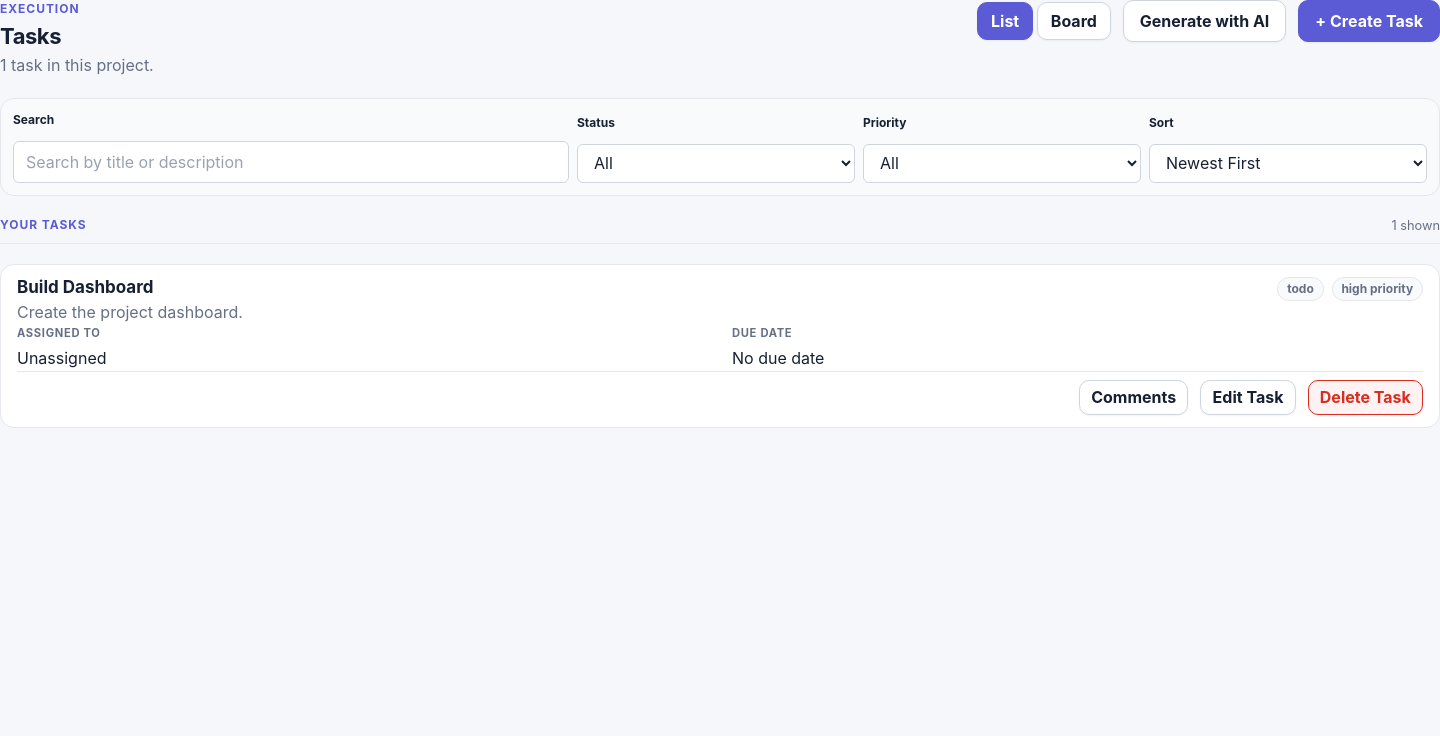
Test: task comments read and create UI › preserves typed content when comment creation fails
This screenshot has width=1440, height=736.
Click the button with aria-label "View comments for Build Dashboard".
click(1134, 397)  # box [1079,380,1188,414]
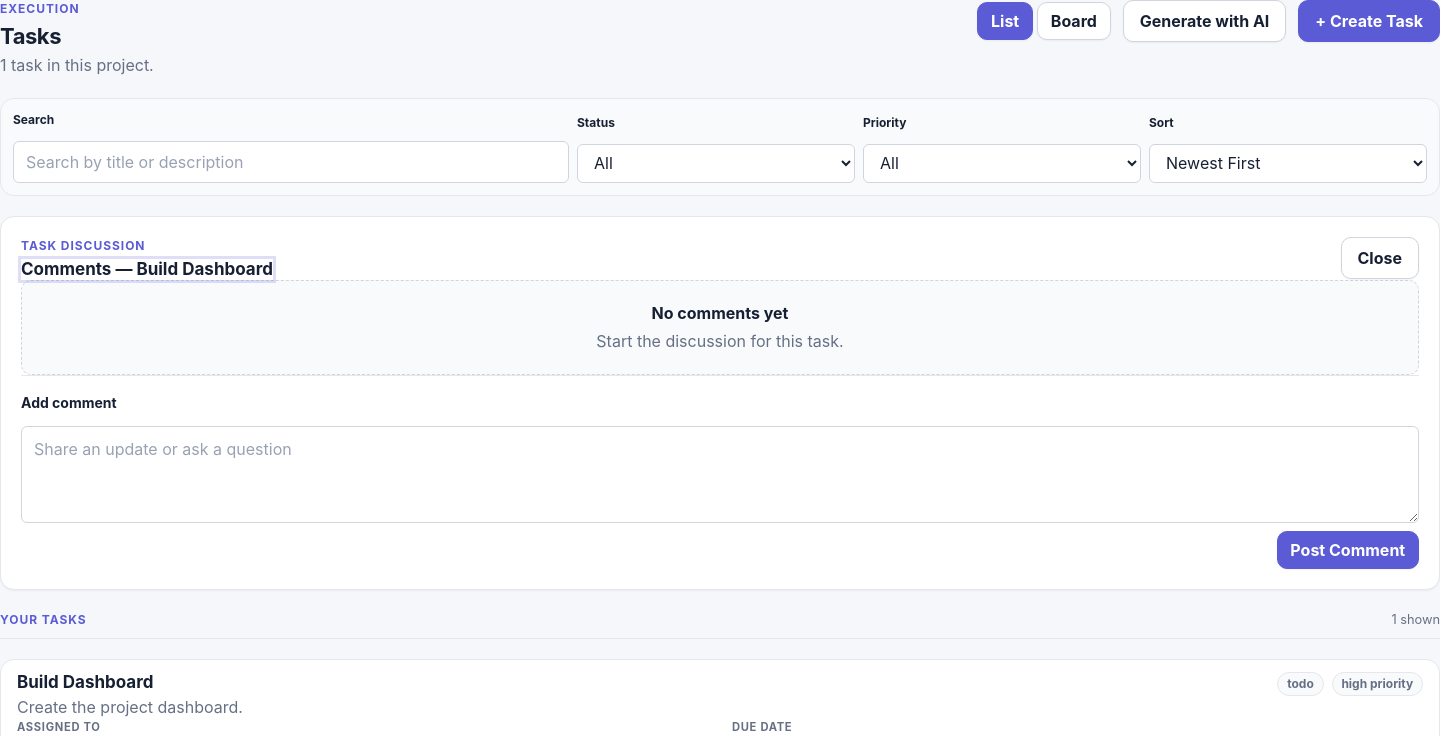
Now the text "No comments yet" is shown, box [652,302,788,322]
Type "Keep this draft" into the text box labelled "Add comment".
click(720, 474); type("Keep this draft")  # box [21,426,1419,523]
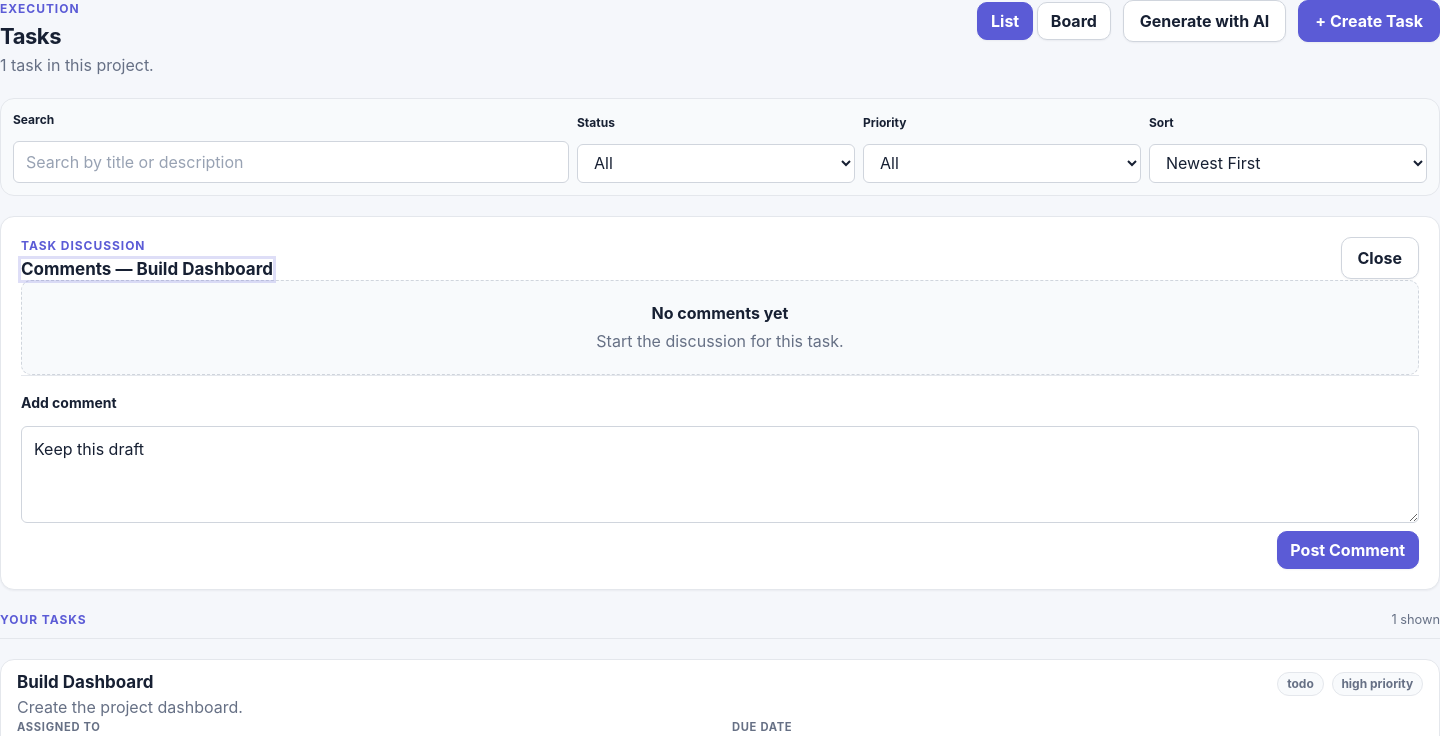
Click the button "Post Comment".
click(1348, 550)  # box [1276,531,1419,569]
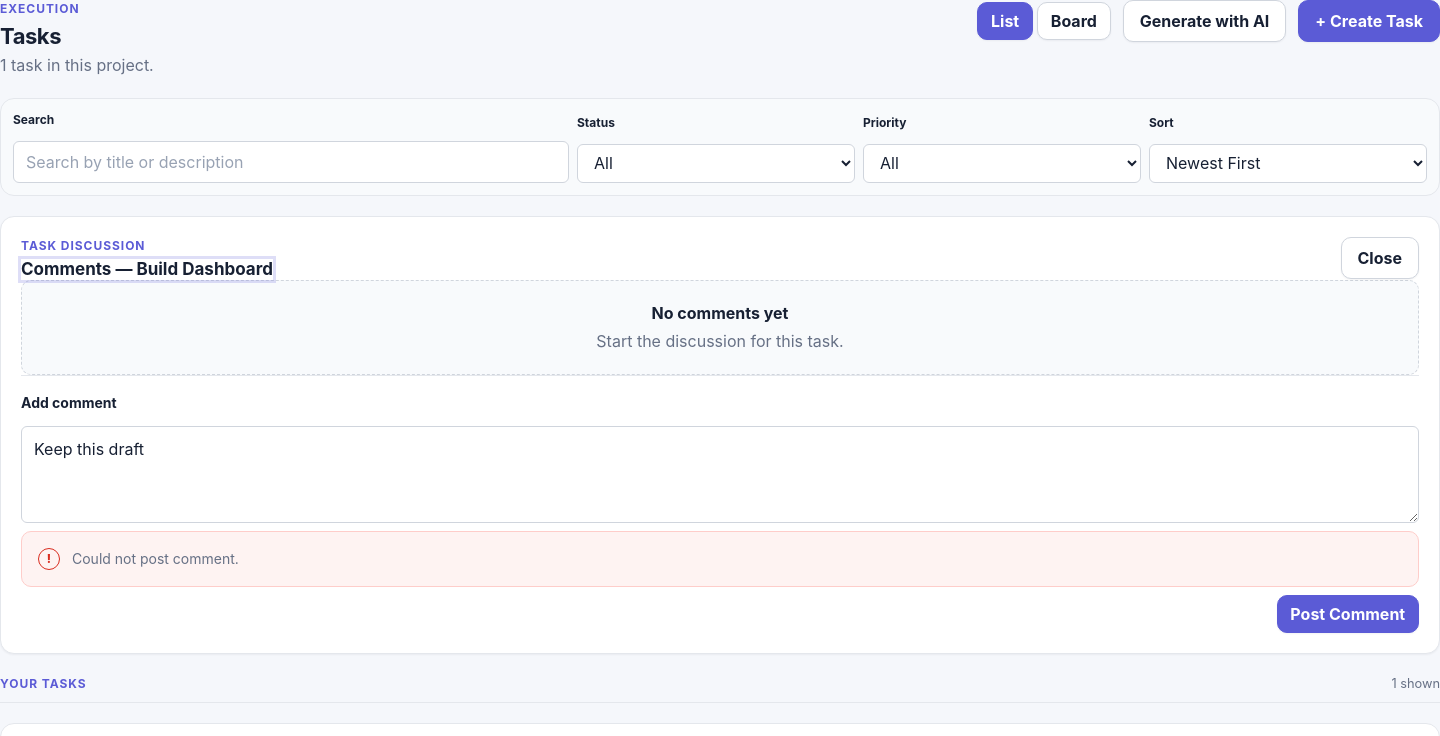
Now the message "! Could not post comment." is shown, box [21,531,1419,587]
